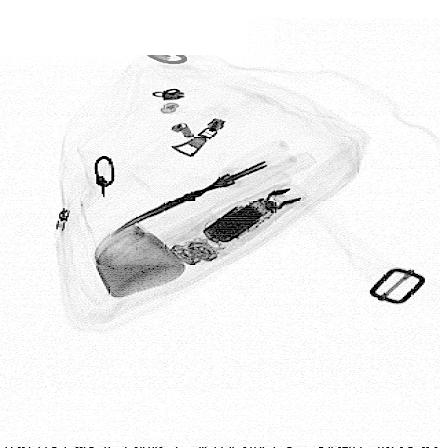Scissors: (113, 140, 294, 236)
